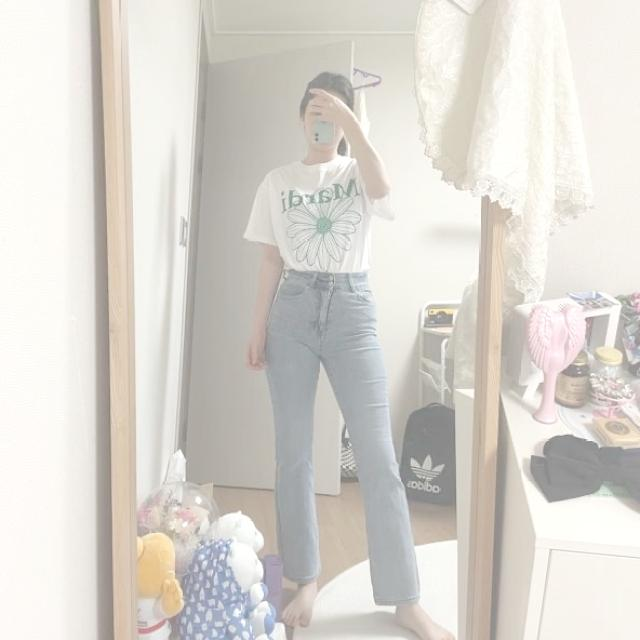denimpants: (262, 270, 420, 606)
shortsleeve: (242, 154, 380, 272)
